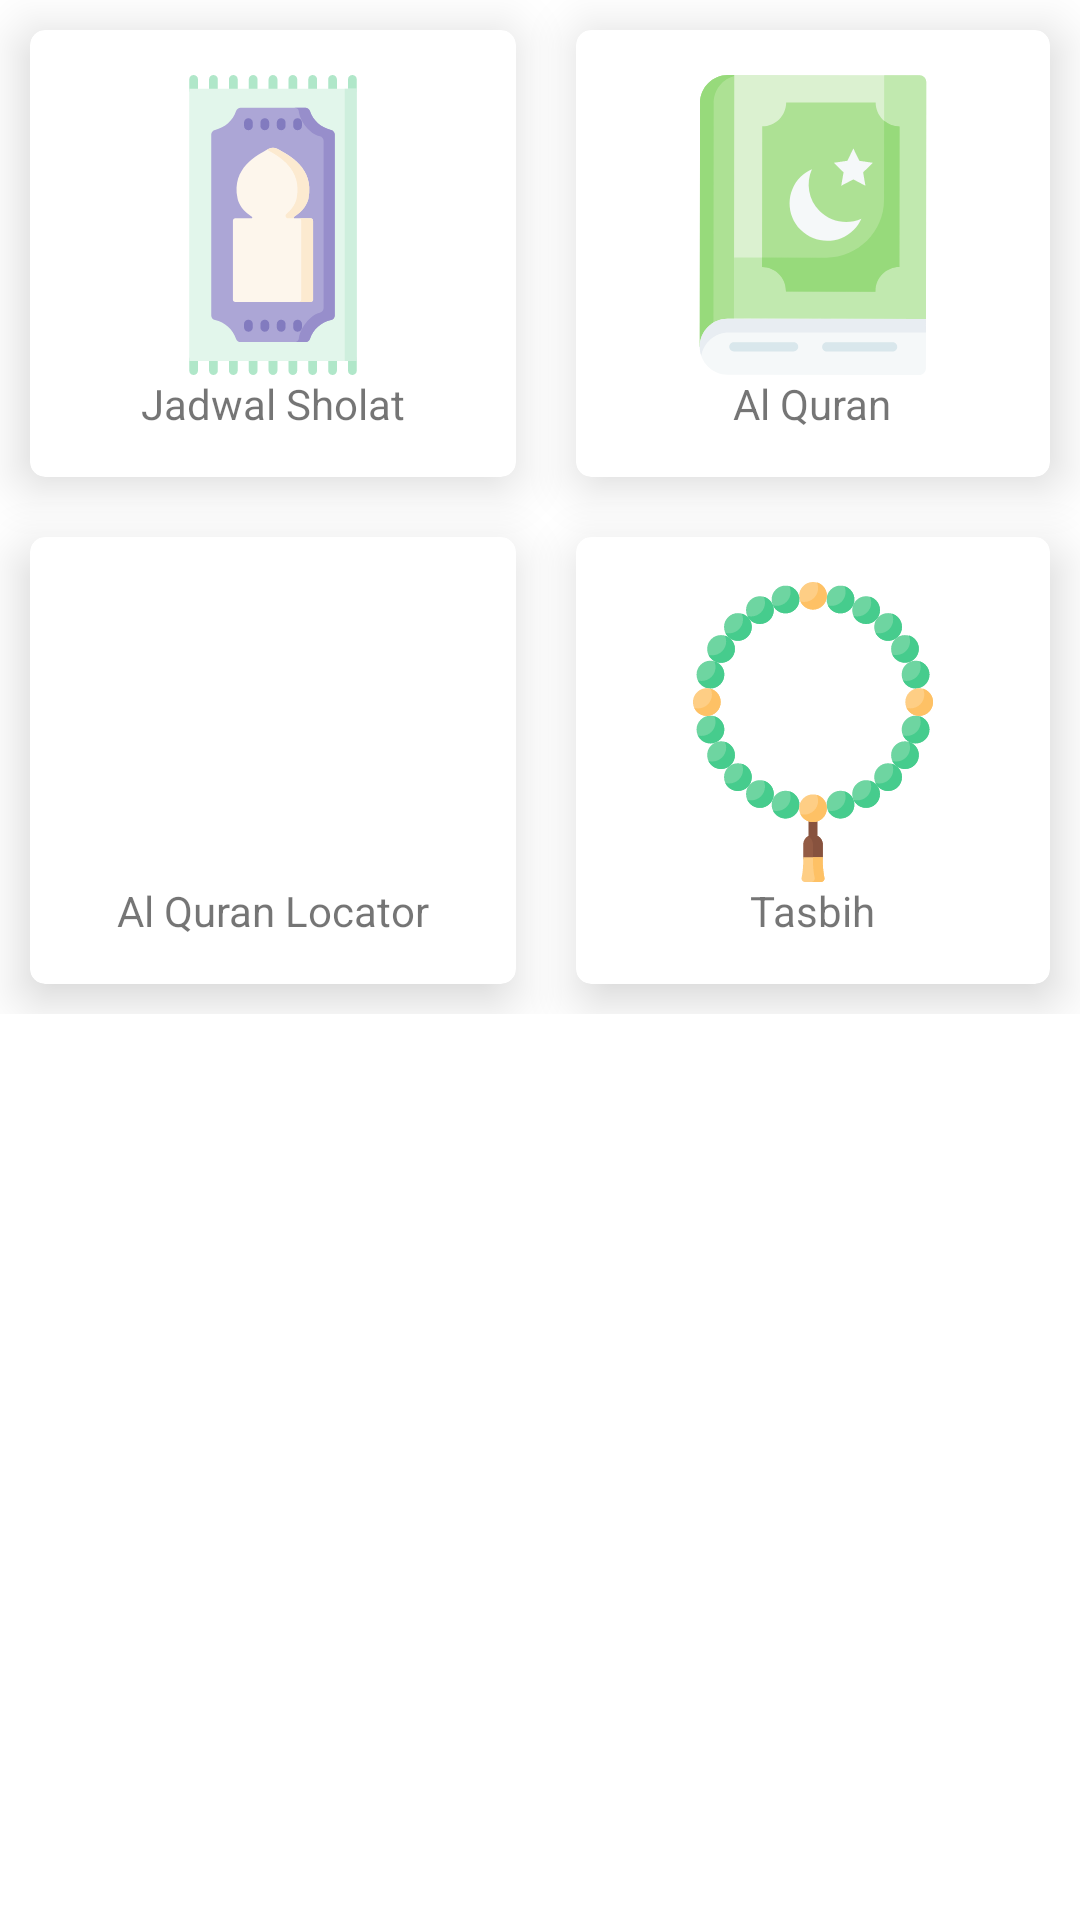

Named icons in this screenshot (1080px x 1920px) and their bounding boxes, bbox=[x1, y1, x2, y2]:
sajadah: bbox=[189, 75, 357, 375]
